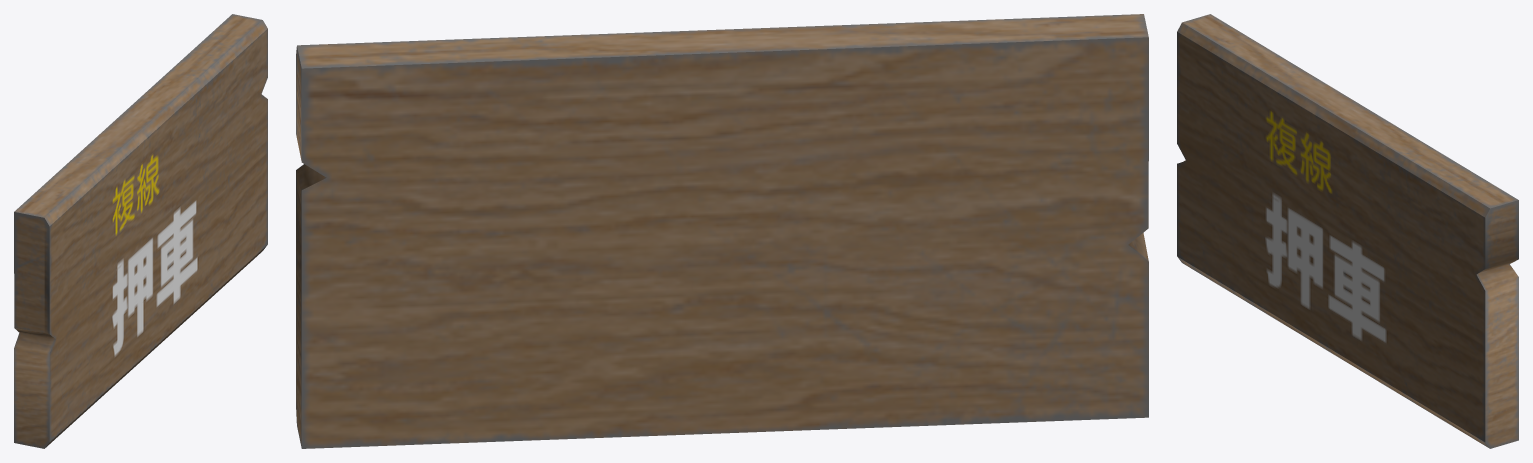
Rendered from piece.obj.
3 renders of one model, left to right at view 1: azimuth 30°, elevation 25°; view 2: azimuth 150°, elevation 25°; view 3: azimuth 270°, elevation 25°, orthographic. The views are drawn at different scales.
Visible parts, largest first — view 1: POP; view 2: POP; view 3: POP.
Boxes of the visible parts, x1=… form: POP: x1=14, y1=14, x2=267, y2=448; POP: x1=296, y1=14, x2=1148, y2=448; POP: x1=1177, y1=14, x2=1518, y2=448.
Bounding box in the file's own units: 0.5962 × 0.3411 × 0.4393.
Materials: 1 (1 with a texture image).
